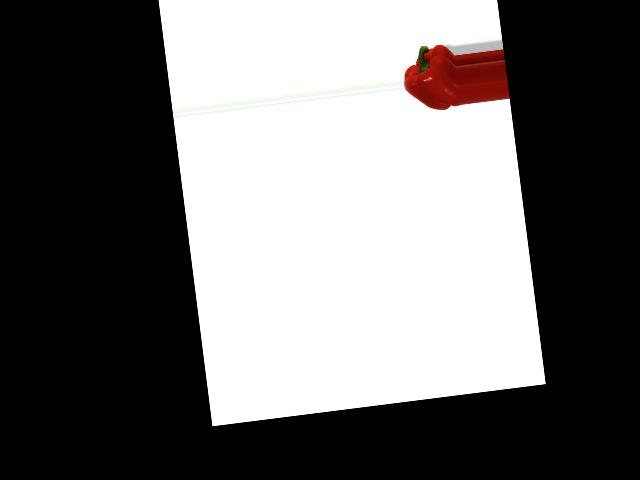bell_pepper: (398, 33, 462, 121)
